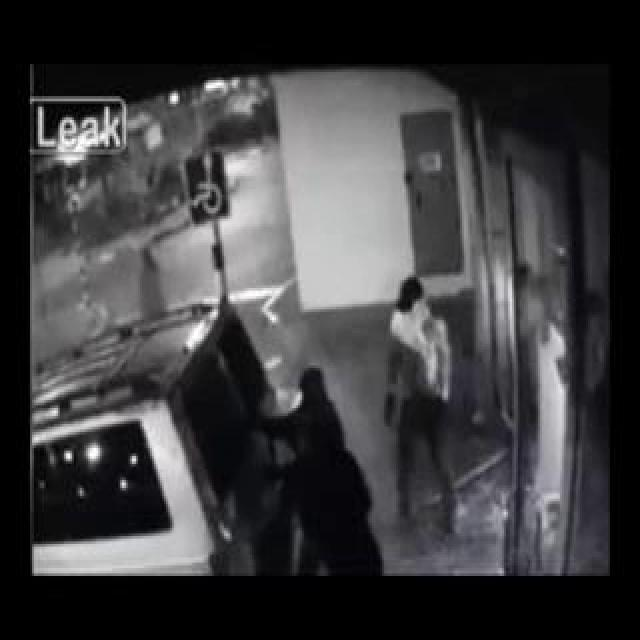burglary: (318, 280, 553, 608)
